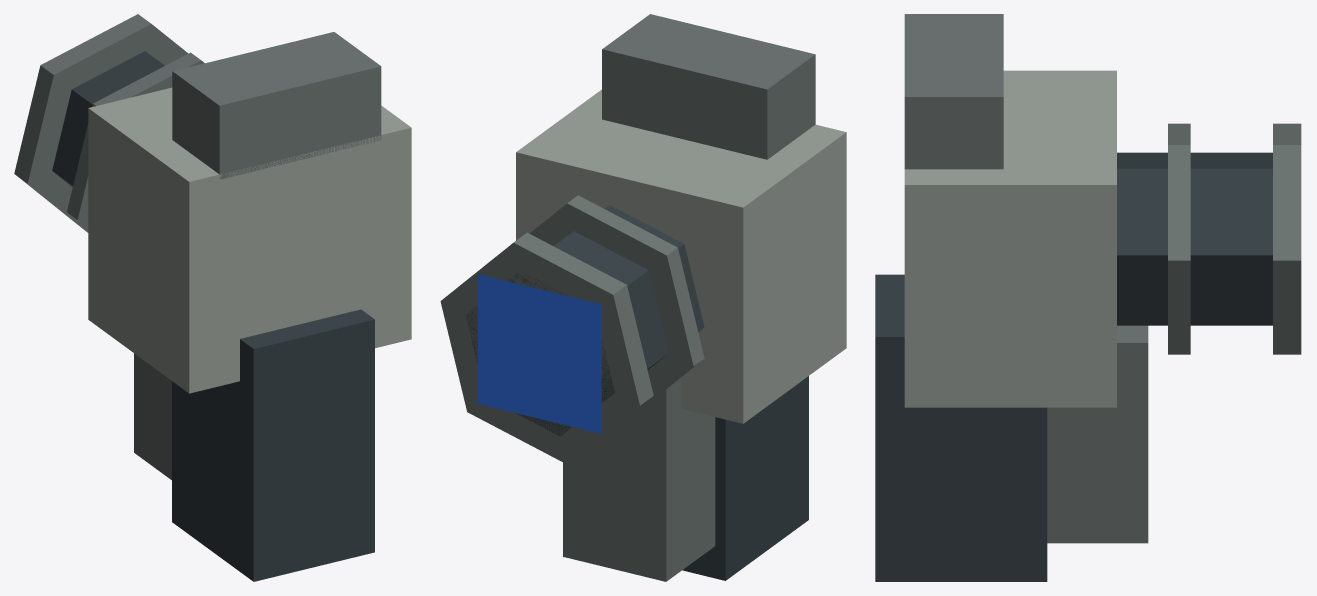
The picture shows the model from 3 angles, left to right: view 1: azimuth 30°, elevation 25°; view 2: azimuth 150°, elevation 25°; view 3: azimuth 270°, elevation 25°; orthographic projection. The views are drawn at different scales.
Visible parts, largest first — view 1: mount; view 2: mount; view 3: mount.
Part boxes in pixels (<box>): mount: <box>14,14,411,581</box>; mount: <box>440,14,846,581</box>; mount: <box>875,14,1301,581</box>.
Bounding box in the file's own units: 5.72 × 11.57 × 9.05.
